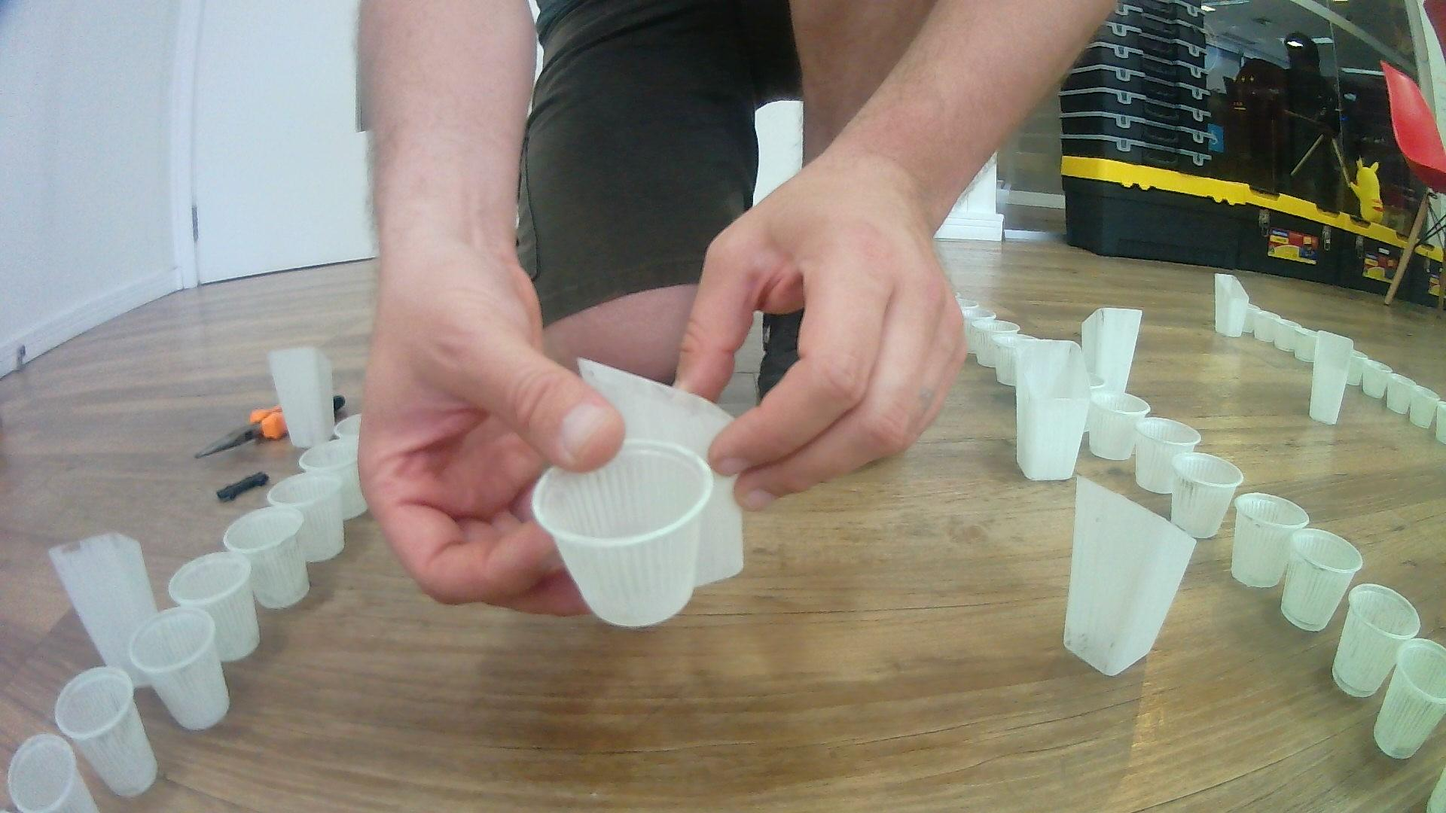erva_daninha: (577, 358, 745, 589), (1060, 473, 1200, 678), (50, 532, 159, 680), (1014, 338, 1091, 481), (267, 344, 337, 449), (1081, 306, 1144, 394), (1309, 330, 1355, 426), (1213, 273, 1250, 338)
planta: (528, 442, 715, 632), (53, 664, 161, 798), (131, 607, 233, 732), (167, 550, 261, 662), (1332, 583, 1420, 699), (222, 506, 312, 608), (1374, 638, 1446, 763), (1282, 528, 1363, 632), (1231, 492, 1312, 589), (265, 470, 348, 563), (5, 732, 100, 813), (1170, 452, 1243, 540), (298, 437, 368, 521), (1135, 417, 1202, 494), (1088, 391, 1150, 461), (971, 320, 1020, 370), (990, 332, 1027, 386), (962, 309, 996, 355), (1408, 385, 1441, 429), (1385, 373, 1414, 415), (1362, 360, 1393, 399), (1289, 325, 1318, 363), (1265, 318, 1295, 352), (1245, 308, 1274, 343), (334, 414, 362, 443), (1347, 352, 1369, 386), (956, 297, 978, 323), (1435, 402, 1446, 444)
